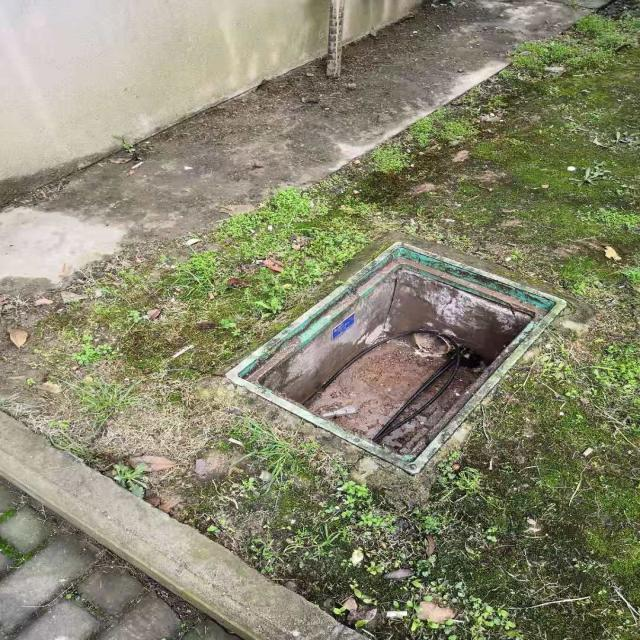Faulty: (228, 241, 564, 474)
